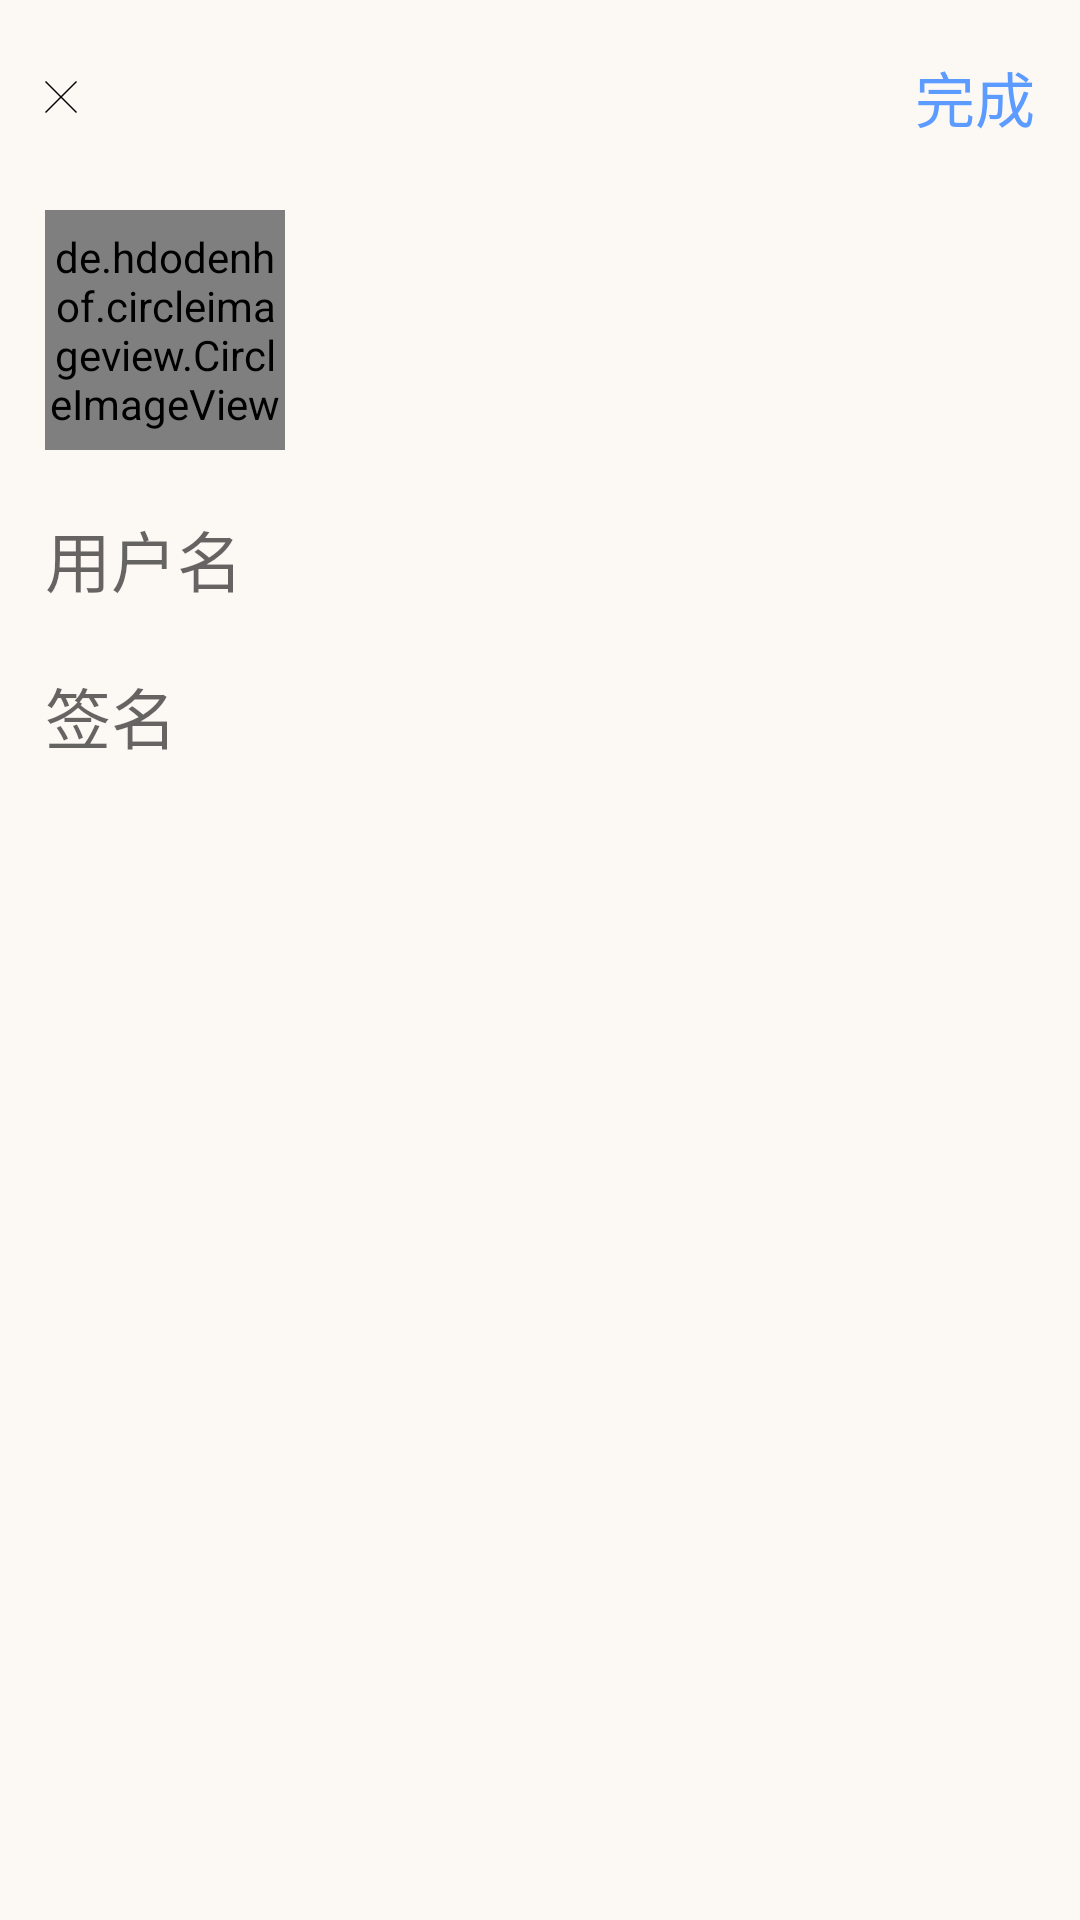

Icon click points for this 1080*1920 phone screenshot, format (x,y):
close: (61,97)
